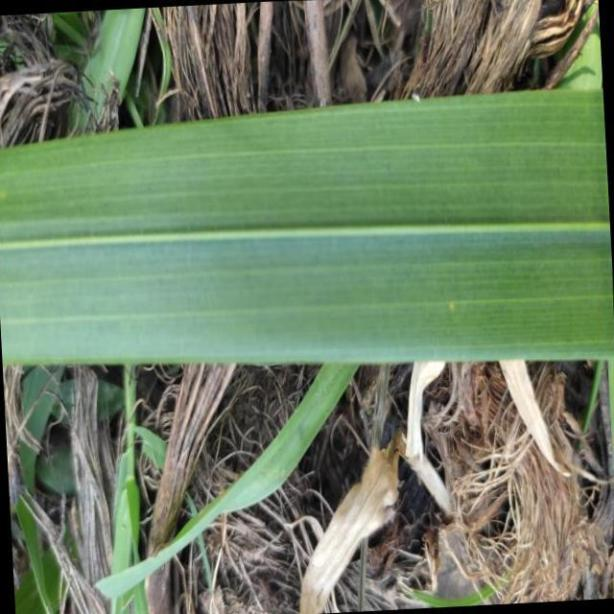Healthy: (0, 91, 614, 365)
